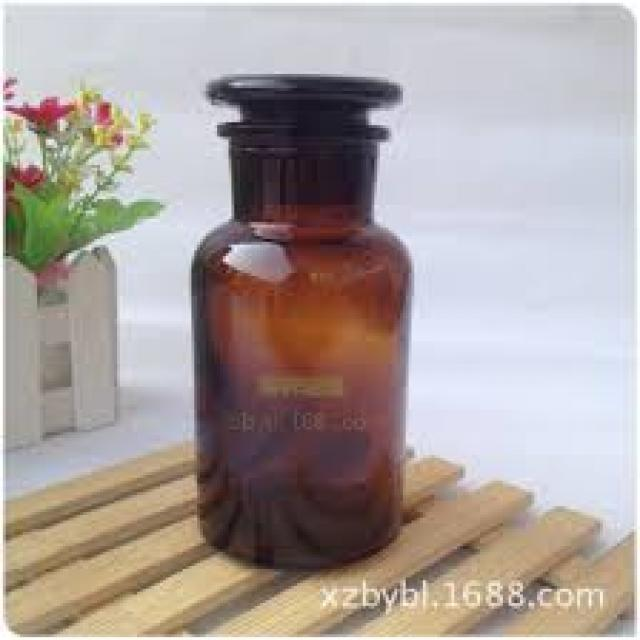organic waste: (29, 196, 160, 262), (6, 179, 71, 262), (3, 94, 66, 119), (69, 80, 94, 111), (0, 162, 37, 182), (80, 125, 109, 145), (108, 134, 146, 148), (88, 102, 112, 122), (112, 105, 132, 125), (134, 111, 154, 131), (109, 134, 120, 142)
